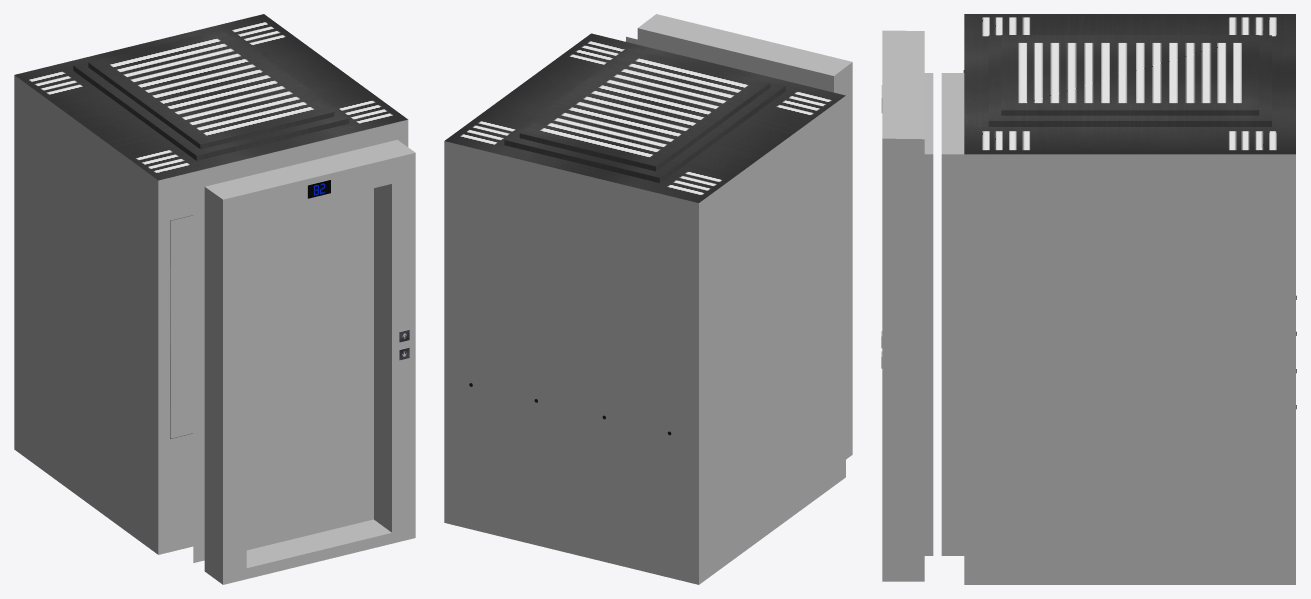
Rendered from Elevator.FBX.
3 views of the same model, side by side, from view 1: azimuth 30°, elevation 25°; view 2: azimuth 150°, elevation 25°; view 3: azimuth 270°, elevation 25° (orthographic). The views are drawn at different scales.
Parts seen in each view (by area): view 1: Elevator, Frame, Door_Left_out, Door_Right_out; view 2: Elevator, Frame; view 3: Elevator, Frame, Door_Left, Door_Left_out.
Boxes of the visible parts, bbox=[...] form: Elevator: bbox=[14, 14, 408, 562]; Frame: bbox=[204, 139, 415, 584]; Door_Left_out: bbox=[300, 188, 373, 537]; Door_Right_out: bbox=[246, 206, 300, 550]; Elevator: bbox=[444, 33, 845, 584]; Frame: bbox=[637, 14, 852, 459]; Elevator: bbox=[950, 14, 1296, 584]; Frame: bbox=[882, 30, 924, 581]; Door_Left: bbox=[941, 113, 950, 555]; Door_Left_out: bbox=[924, 113, 933, 555].
Bounding box in the file's own units: 1.53 × 2.32 × 1.92.
